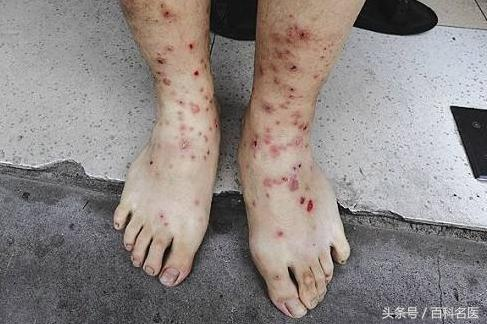Fleas: (266, 23, 308, 138), (194, 79, 223, 131), (175, 110, 194, 159), (249, 135, 284, 160), (262, 174, 304, 191), (151, 206, 177, 232), (146, 52, 170, 77), (289, 160, 312, 177), (259, 100, 277, 118), (275, 228, 297, 242), (297, 196, 316, 212), (162, 3, 177, 23), (295, 28, 312, 44), (147, 156, 161, 175), (189, 101, 202, 116), (161, 44, 173, 55), (192, 68, 203, 80), (158, 75, 171, 85), (187, 42, 193, 49)
